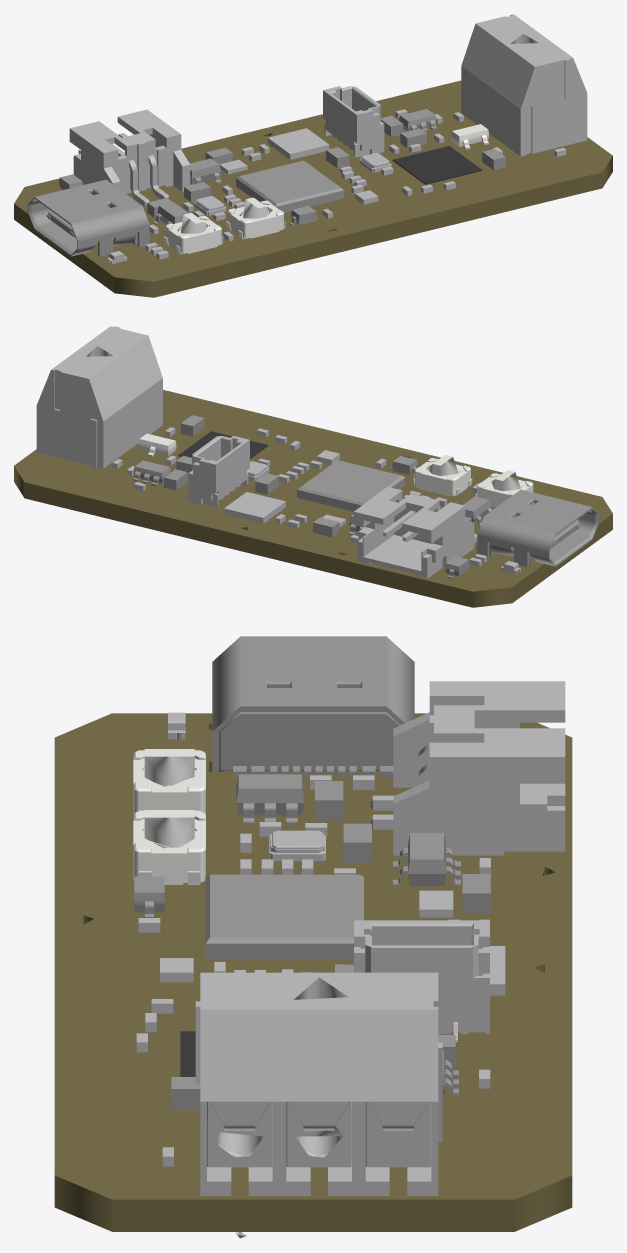
File: ada-5724.glb
3 views of the same model, one above another, from view 1: azimuth 30°, elevation 25°; view 2: azimuth 150°, elevation 25°; view 3: azimuth 270°, elevation 25° (orthographic). The views are drawn at different scales.
Visible parts, largest first — view 1: 0.16666666666666666_0.16666666666666666_0.08333333333333333_, 0.5833333333333334_0.5833333333333334_0.5833333333333334_0.8, 0.3333333333333333_0.3333333333333333_0.3333333333333333_0, 0.9166666666666666_0.9166666666666666_0.9166666666666666_0.8, 0.08333333333333333_0.08333333333333333_0.08333333333333333_; view 2: 0.16666666666666666_0.16666666666666666_0.08333333333333333_, 0.5833333333333334_0.5833333333333334_0.5833333333333334_0.8, 0.3333333333333333_0.3333333333333333_0.3333333333333333_0, 0.9166666666666666_0.9166666666666666_0.9166666666666666_0.8, 0.08333333333333333_0.08333333333333333_0.08333333333333333_; view 3: 0.16666666666666666_0.16666666666666666_0.08333333333333333_, 0.5833333333333334_0.5833333333333334_0.5833333333333334_0.8, 0.3333333333333333_0.3333333333333333_0.3333333333333333_0, 0.9166666666666666_0.9166666666666666_0.9166666666666666_0.8.
Boxes of the visible parts, box(x1,y1,x2,y2) form: 0.16666666666666666_0.16666666666666666_0.08333333333333333_: box(14, 80, 612, 297); 0.5833333333333334_0.5833333333333334_0.5833333333333334_0.8: box(48, 14, 587, 264); 0.3333333333333333_0.3333333333333333_0.3333333333333333_0: box(27, 109, 505, 256); 0.9166666666666666_0.9166666666666666_0.9166666666666666_0.8: box(164, 124, 488, 254); 0.08333333333333333_0.08333333333333333_0.08333333333333333_: box(392, 146, 482, 184); 0.16666666666666666_0.16666666666666666_0.08333333333333333_: box(14, 390, 612, 607); 0.5833333333333334_0.5833333333333334_0.5833333333333334_0.8: box(36, 326, 578, 578); 0.3333333333333333_0.3333333333333333_0.3333333333333333_0: box(132, 415, 599, 578); 0.9166666666666666_0.9166666666666666_0.9166666666666666_0.8: box(138, 433, 533, 507); 0.08333333333333333_0.08333333333333333_0.08333333333333333_: box(178, 431, 267, 458); 0.16666666666666666_0.16666666666666666_0.08333333333333333_: box(54, 713, 572, 1231); 0.5833333333333334_0.5833333333333334_0.5833333333333334_0.8: box(136, 681, 565, 1238); 0.3333333333333333_0.3333333333333333_0.3333333333333333_0: box(134, 636, 490, 1109); 0.9166666666666666_0.9166666666666666_0.9166666666666666_0.8: box(133, 749, 205, 884).
Bounding box in the file's own units: 5.2 × 1.19 × 2.29.
